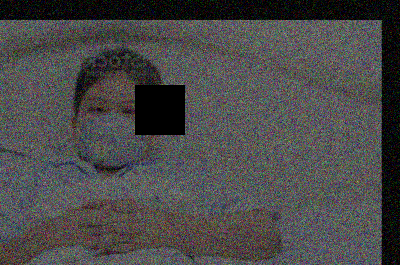with_mask: (75, 89, 151, 170)
